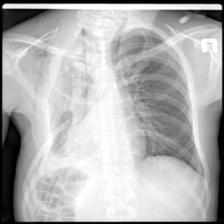tuberculosis: (21, 21, 212, 195)
